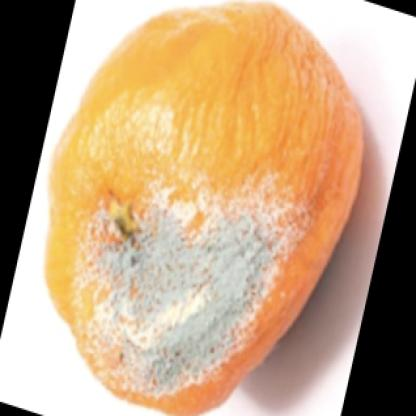rotten: (47, 3, 366, 416)
